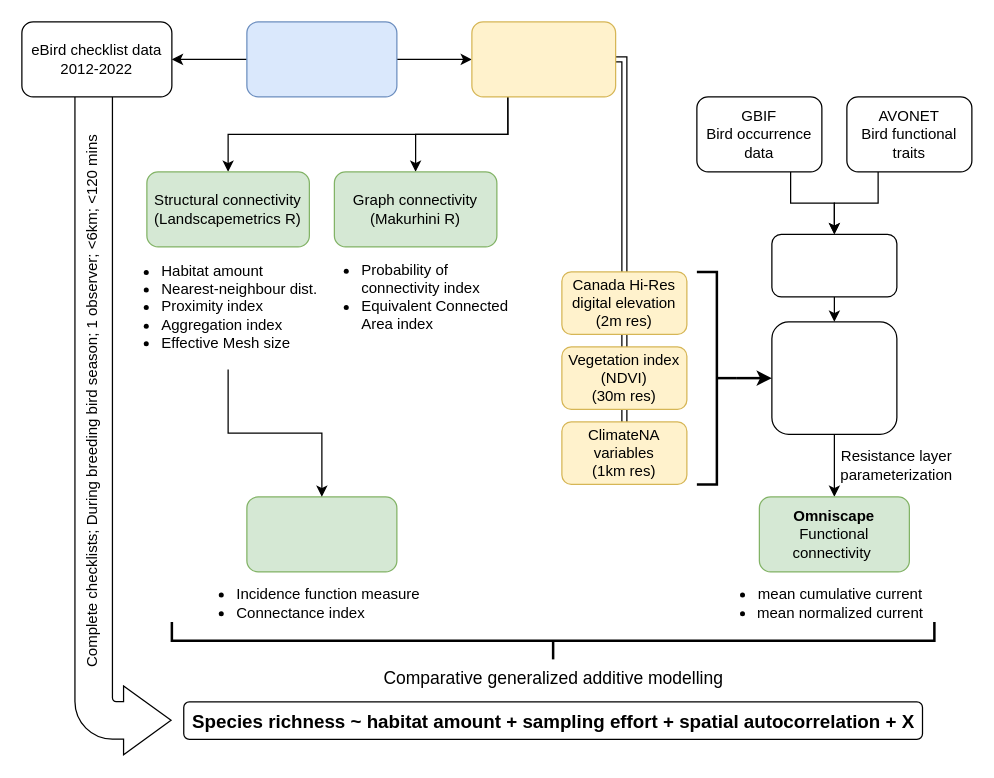
The diagram is 994 pixels wide and 778 high, and some of its shapes have lost their labels. The shapes that lost their labels are listed below. From the top down, each one's centre as x and y in pixels, then its label:
pixel 321 59: Canada census data delineated populated urban areas
pixel 543 59: European space agency Land cover (10m res)
pixel 834 265: Functional bird groups
pixel 834 377: Habitat suitability models (Random forest biomod2 R)
pixel 321 534: Potential connectivity
